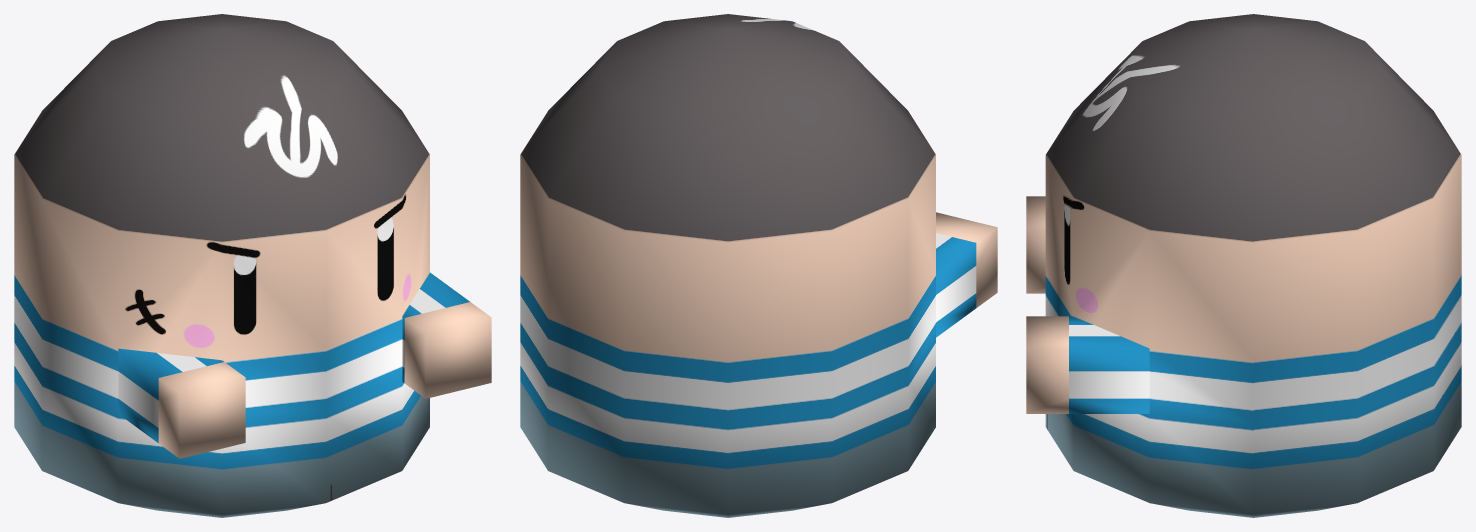
The model's file is pirate.fbx.
3 renders of one model, left to right at view 1: azimuth 30°, elevation 25°; view 2: azimuth 150°, elevation 25°; view 3: azimuth 270°, elevation 25°, orthographic.
Visible parts, largest first — view 1: Sphere; view 2: Sphere; view 3: Sphere.
Boxes of the visible parts, x1=… form: Sphere: x1=14, y1=14, x2=491, y2=517; Sphere: x1=520, y1=14, x2=997, y2=517; Sphere: x1=1026, y1=14, x2=1461, y2=517.
Size of the model in its own units: 190 by 225 by 199.
1 material, 1 textured.
